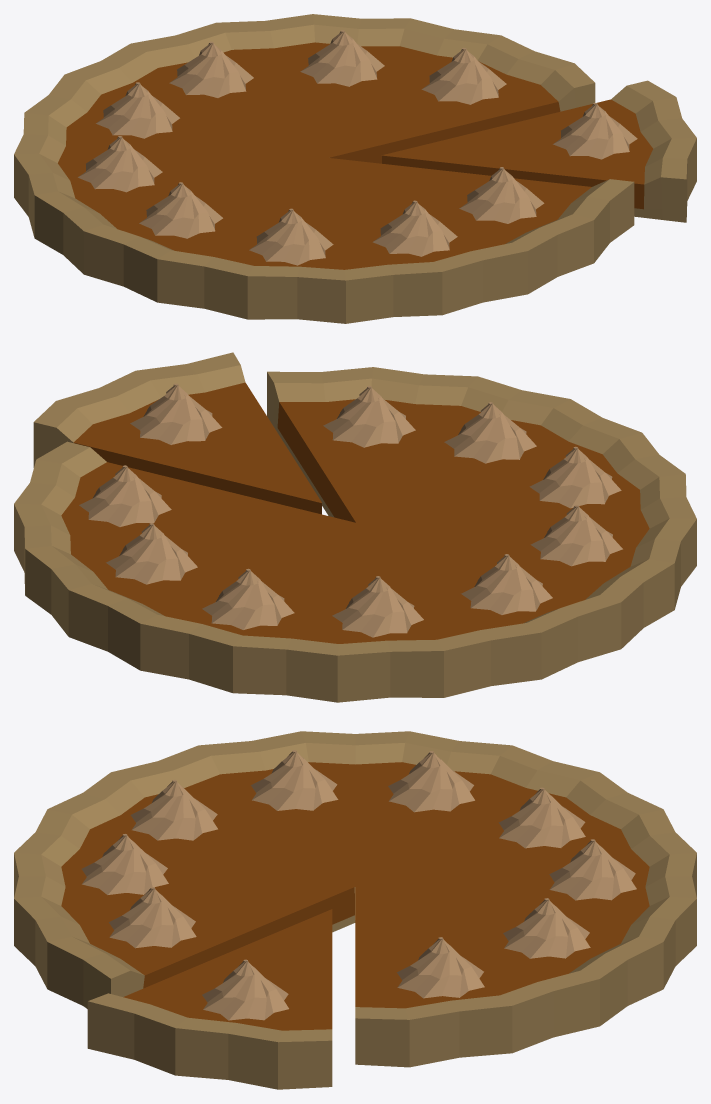
File: Cake_Asin-Pahit_BitterAlmond-Tart.fbx
The picture shows the model from 3 angles, top to bottom: view 1: azimuth 30°, elevation 25°; view 2: azimuth 150°, elevation 25°; view 3: azimuth 270°, elevation 25°; orthographic projection. The views are drawn at different scales.
Parts seen in each view (by area): view 1: Cylinder.012, Cylinder.013, Cylinder.019, Cylinder.018, Cylinder.022, Cylinder.023, Cylinder.020, Cylinder.017, Cylinder.021, Cylinder.016, Cylinder.015, Cylinder.014; view 2: Cylinder.012, Cylinder.013, Cylinder.018, Cylinder.019, Cylinder.020, Cylinder.023, Cylinder.014, Cylinder.022, Cylinder.021, Cylinder.015, Cylinder.016, Cylinder.017; view 3: Cylinder.012, Cylinder.013, Cylinder.018, Cylinder.019, Cylinder.021, Cylinder.023, Cylinder.017, Cylinder.016, Cylinder.015, Cylinder.022, Cylinder.014, Cylinder.020.
Boxes of the visible parts, x1,y1,x2,y2 form: Cylinder.012: (14, 14, 634, 323); Cylinder.013: (381, 80, 696, 222); Cylinder.019: (421, 47, 506, 104); Cylinder.018: (459, 167, 544, 223); Cylinder.022: (96, 82, 179, 138); Cylinder.023: (372, 200, 457, 256); Cylinder.020: (300, 30, 384, 86); Cylinder.017: (249, 208, 333, 265); Cylinder.021: (169, 41, 253, 97); Cylinder.016: (139, 182, 222, 238); Cylinder.015: (78, 136, 162, 192); Cylinder.014: (553, 102, 637, 159); Cylinder.012: (14, 367, 696, 702); Cylinder.013: (33, 352, 322, 514); Cylinder.018: (323, 385, 415, 447); Cylinder.019: (79, 465, 171, 526); Cylinder.020: (106, 523, 197, 584); Cylinder.023: (444, 402, 536, 463); Cylinder.014: (130, 383, 222, 444); Cylinder.022: (332, 576, 423, 637); Cylinder.021: (202, 568, 294, 629); Cylinder.015: (461, 554, 552, 614); Cylinder.016: (530, 505, 622, 566); Cylinder.017: (529, 446, 621, 508); Cylinder.012: (14, 731, 696, 1067); Cylinder.013: (87, 909, 332, 1089); Cylinder.018: (109, 887, 196, 948); Cylinder.019: (397, 937, 484, 998); Cylinder.021: (549, 839, 636, 900); Cylinder.023: (81, 834, 168, 894); Cylinder.017: (130, 779, 217, 840); Cylinder.016: (251, 750, 338, 810); Cylinder.015: (388, 751, 474, 812); Cylinder.022: (498, 787, 585, 848); Cylinder.014: (202, 959, 288, 1020); Cylinder.020: (503, 898, 590, 958).
Bounding box in the file's own units: 309 × 36.06 × 286.
